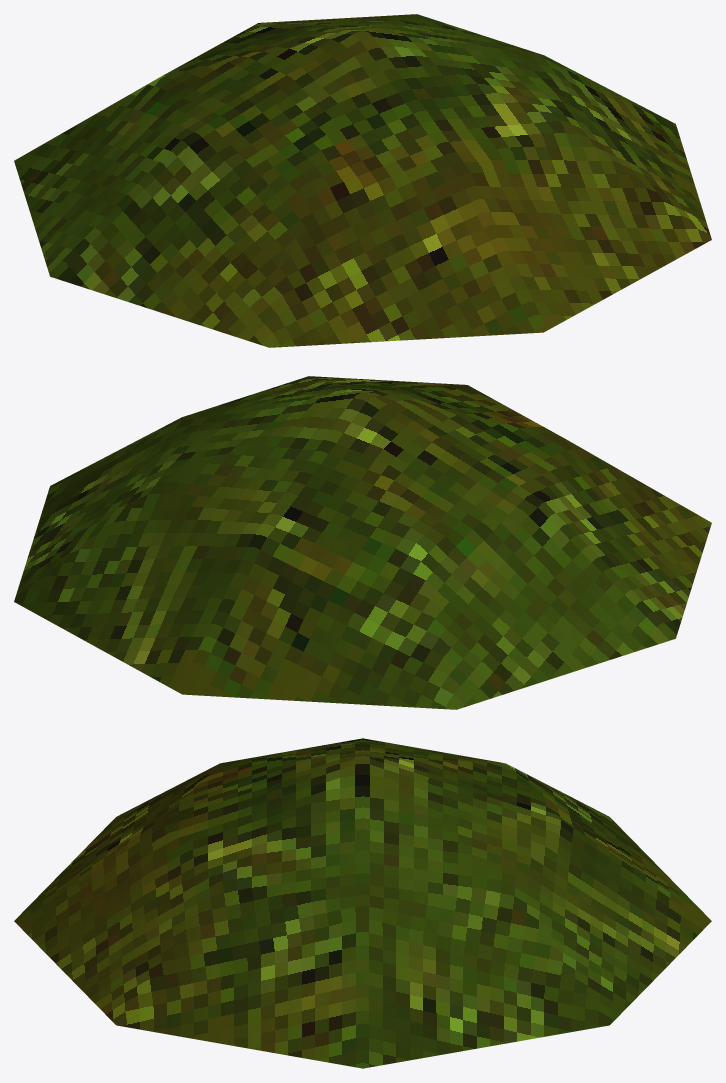
The model's file is mountain_plants_01.FBX.
3 views of the same model, one above another, from view 1: azimuth 30°, elevation 25°; view 2: azimuth 150°, elevation 25°; view 3: azimuth 270°, elevation 25° (orthographic). The views are drawn at different scales.
Parts seen in each view (by area): view 1: Cylinder001; view 2: Cylinder001; view 3: Cylinder001.
Boxes of the visible parts, x1,y1,x2,y2 form: Cylinder001: (14, 14, 711, 347); Cylinder001: (14, 376, 711, 709); Cylinder001: (14, 738, 711, 1068).
Bounding box in the file's own units: 1990 × 512 × 1990.
